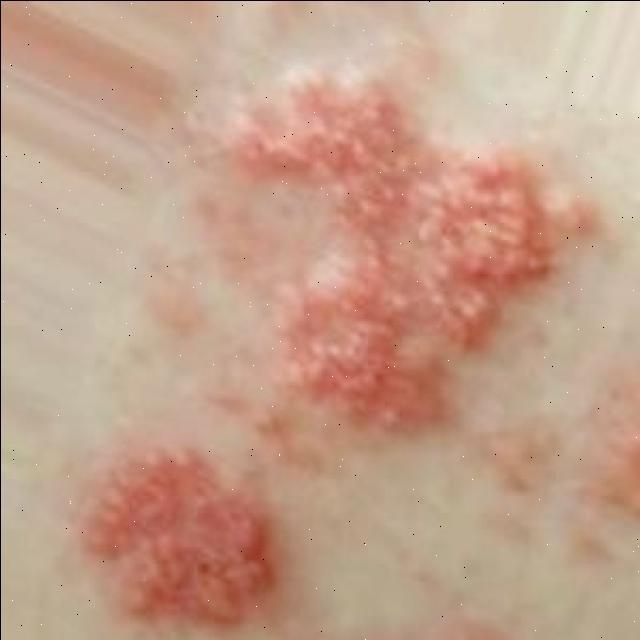Shingles: (223, 61, 563, 438), (70, 440, 282, 638)
